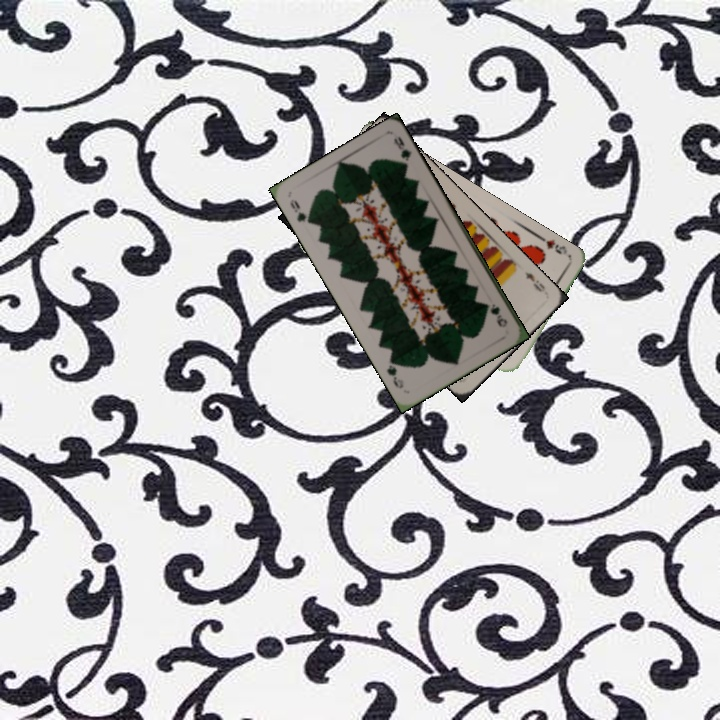E9: (521, 267, 548, 294)
G9: (286, 195, 316, 227), (486, 300, 510, 330)
H9: (534, 232, 570, 257)
